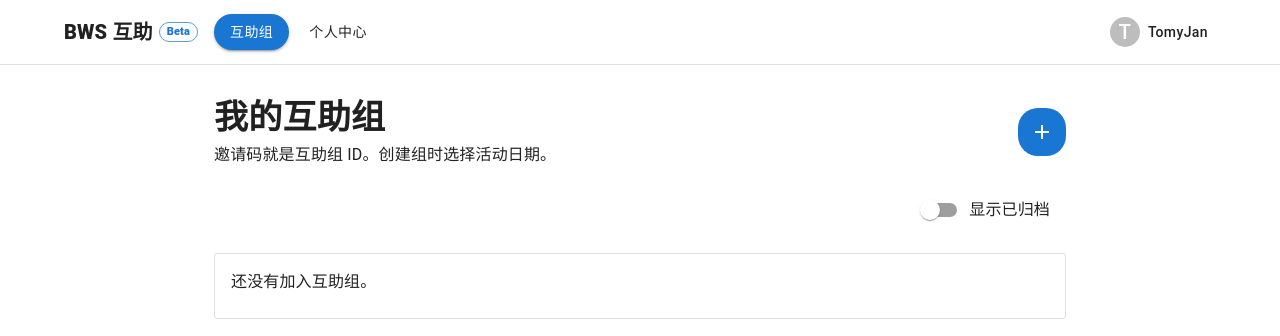
Test: HomePage › uses the shared user navigation and keeps profile menu focused on account actions
Expected: the heading "BWS 互助" is shown, [64,16,153,48]
Expected: the link "互助组" is shown, [214,14,289,50]
Click the button "T TomyJan".
click(1161, 32)  # box [1106,11,1216,53]
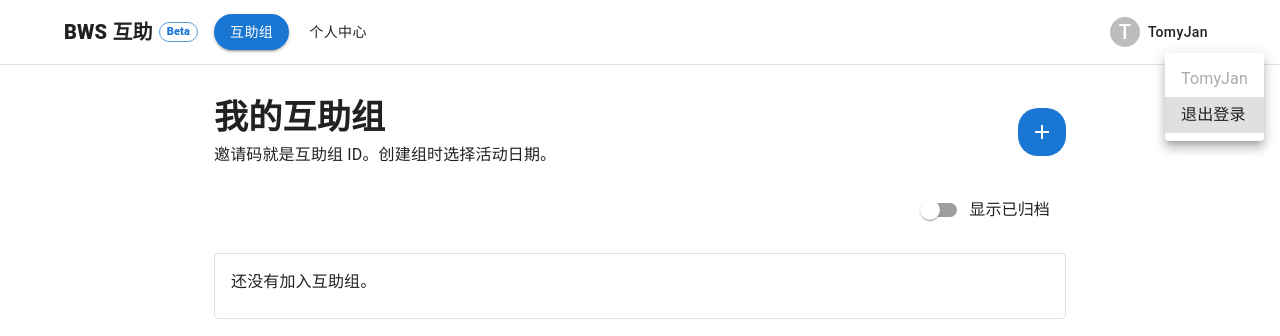
Now the menu item "TomyJan" is shown, box [1181,69,1248,88]
Now the menu item "退出登录" is shown, box [1165,97,1264,133]
